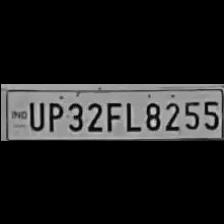2: (84, 97, 103, 130), (162, 97, 180, 130)
3: (64, 97, 82, 130)
5: (180, 97, 200, 129), (200, 97, 220, 129)
8: (140, 99, 162, 131)
F: (103, 97, 121, 130)
L: (121, 98, 139, 132)
P: (44, 97, 62, 130)
U: (25, 98, 43, 130)
